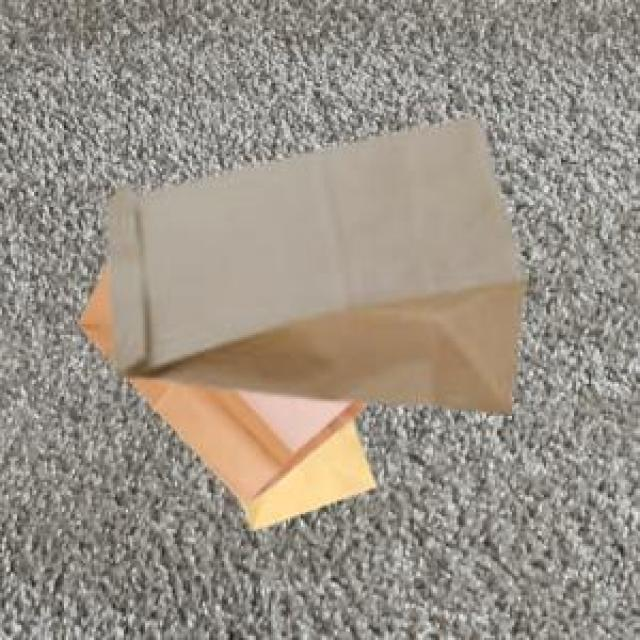Paper -Biodegradable-: (79, 116, 528, 530)
